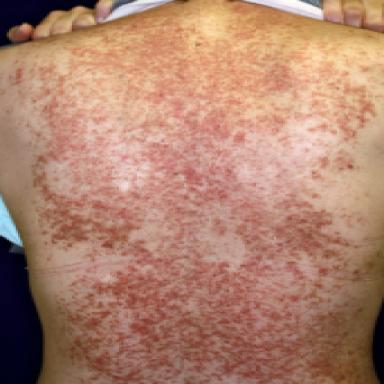Darier_s-Disease: (10, 4, 383, 384)
